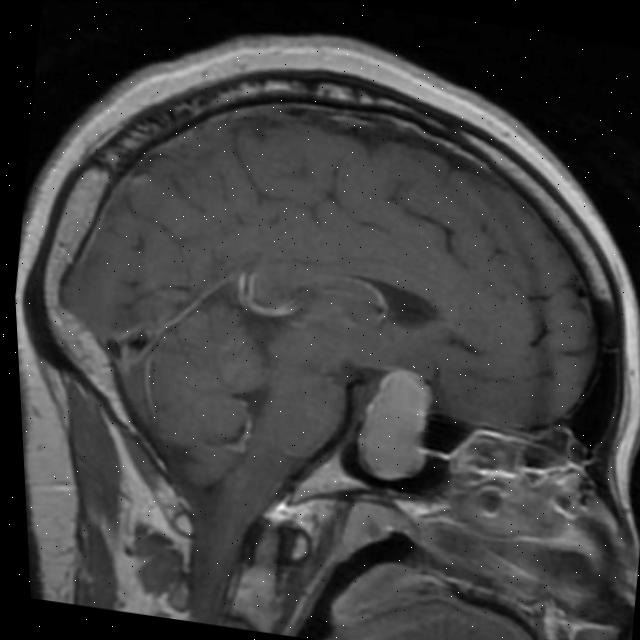Pituitary: (347, 362, 442, 486)
